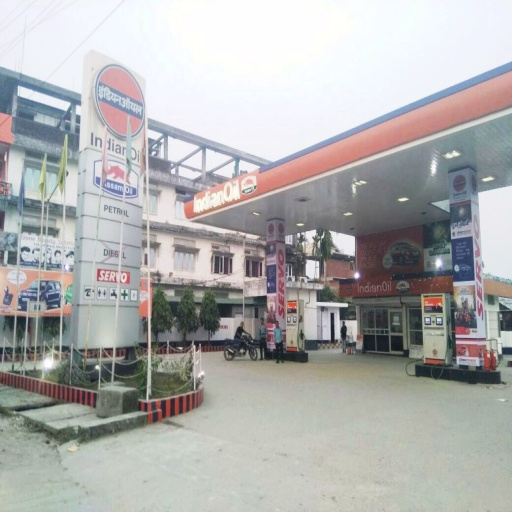roof: (184, 59, 512, 240)
